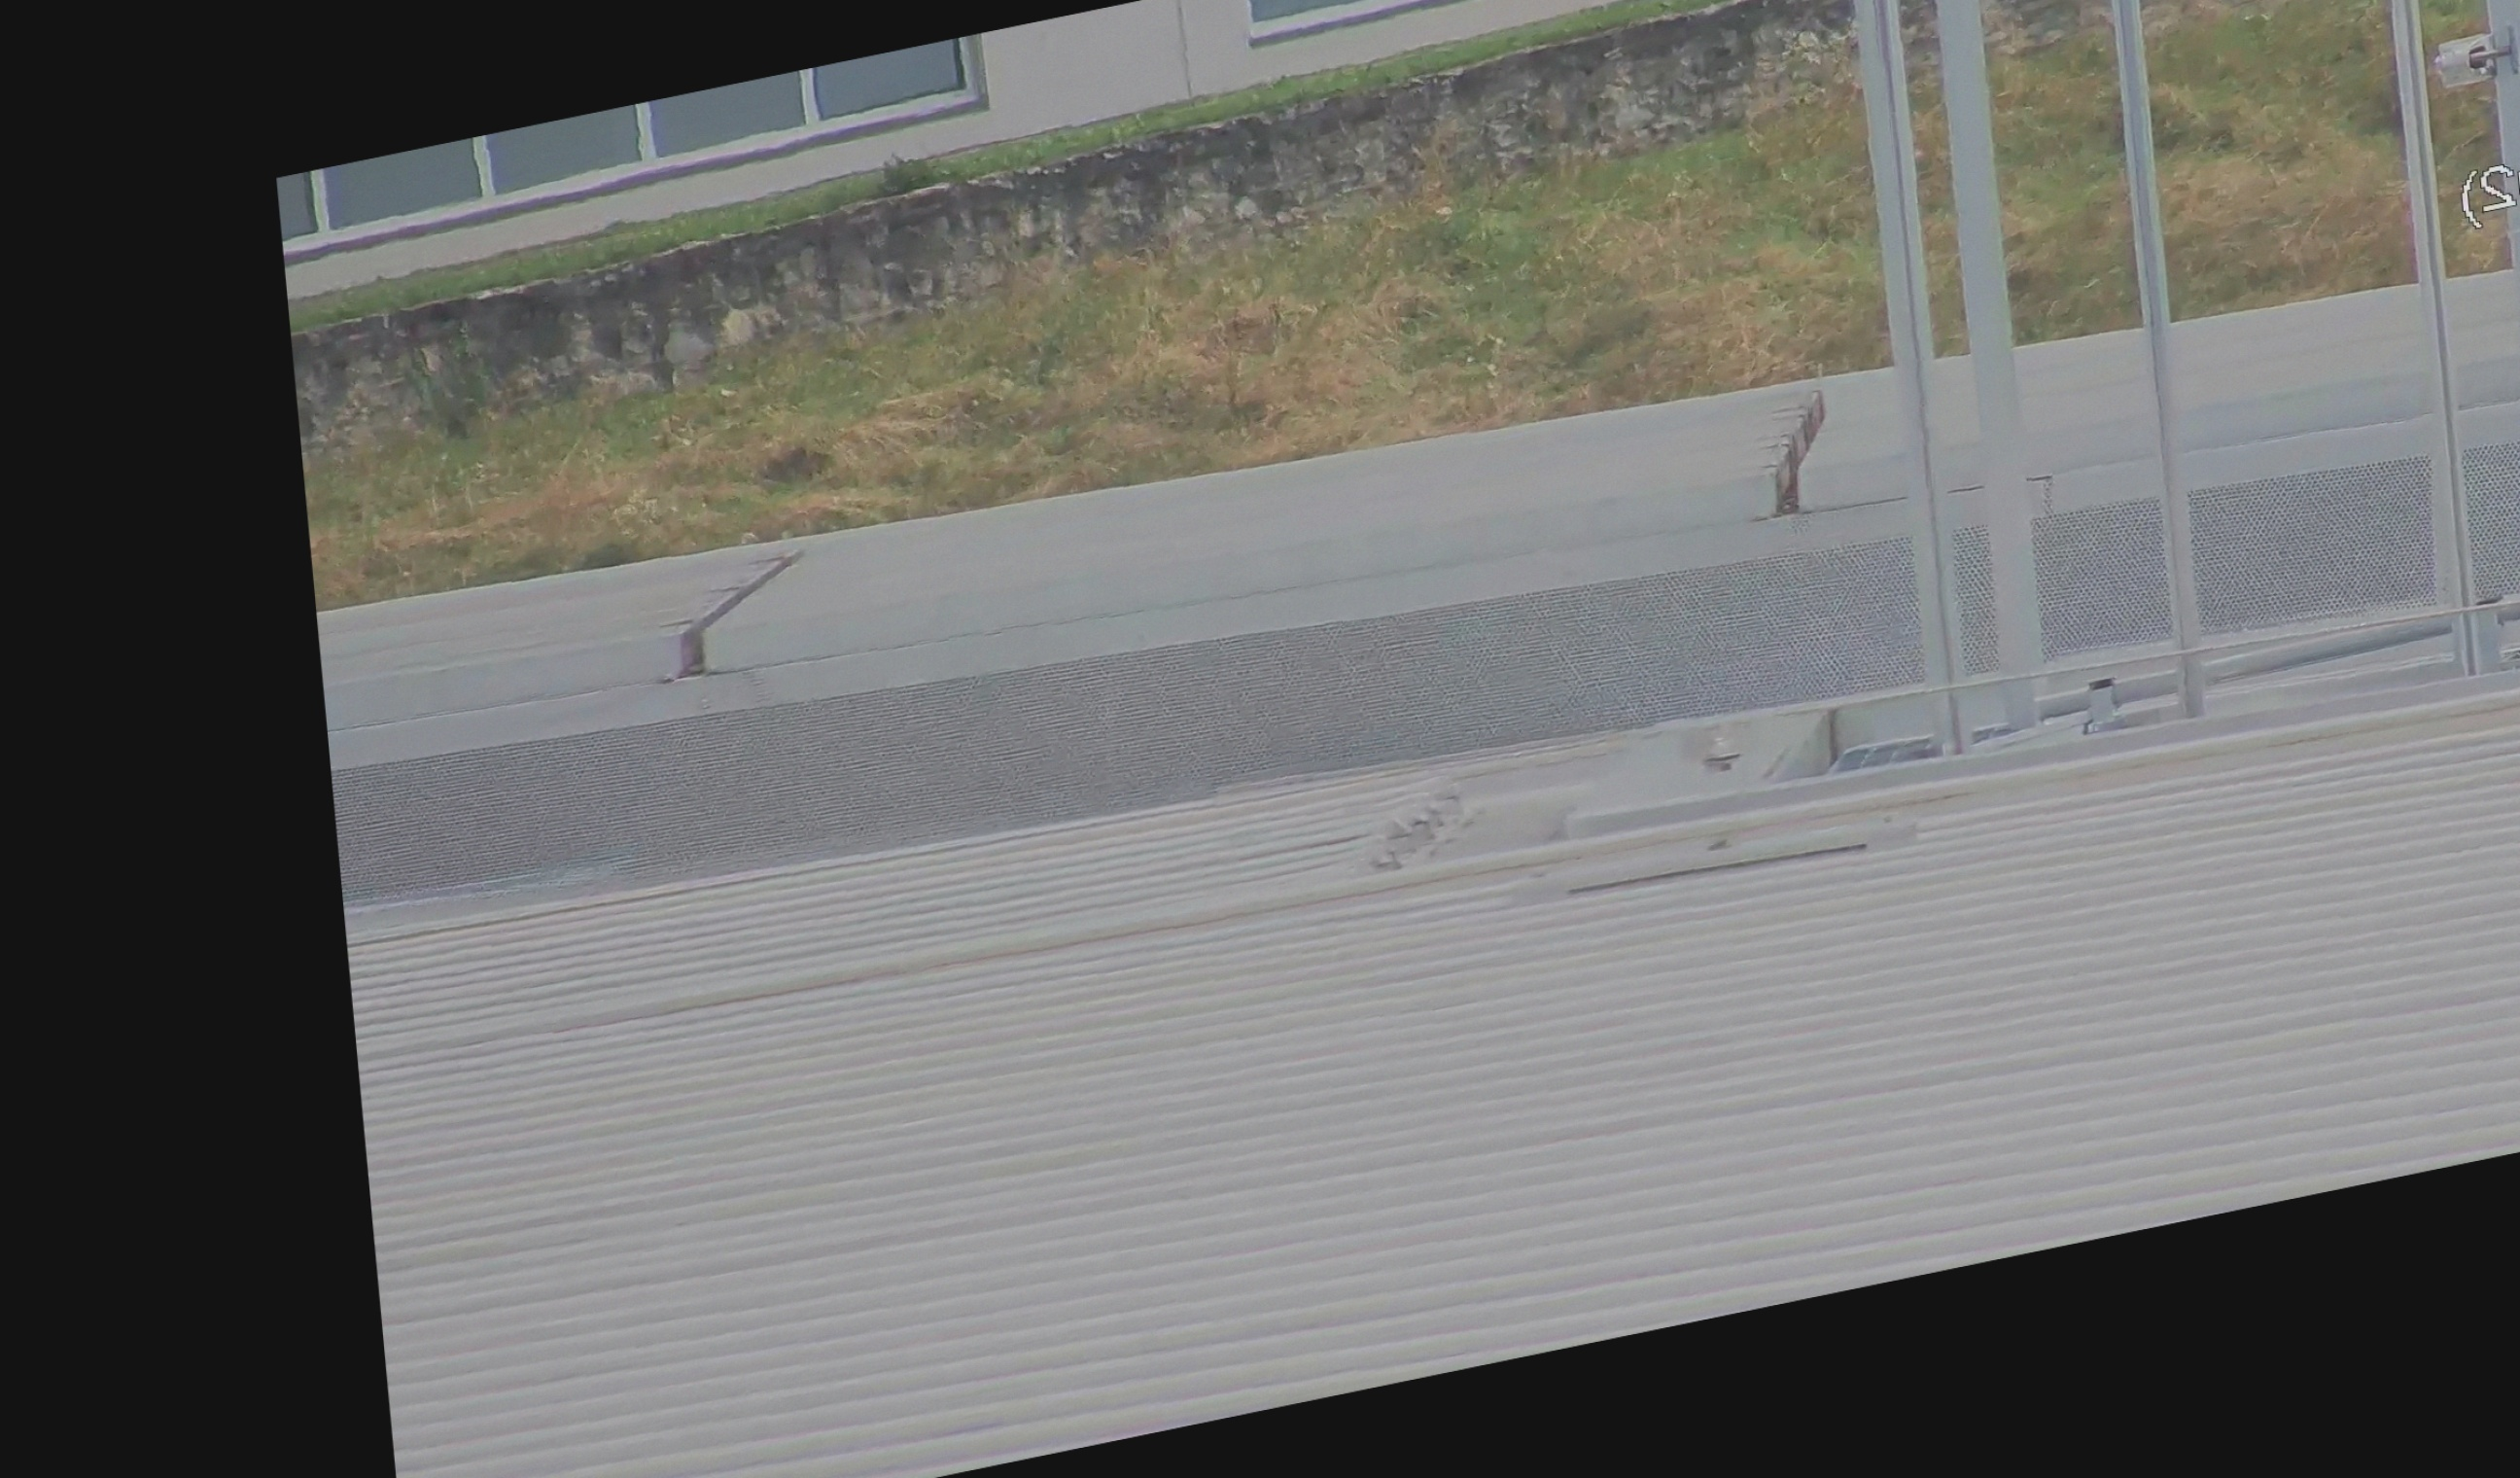Other: (1739, 368, 1848, 530)
